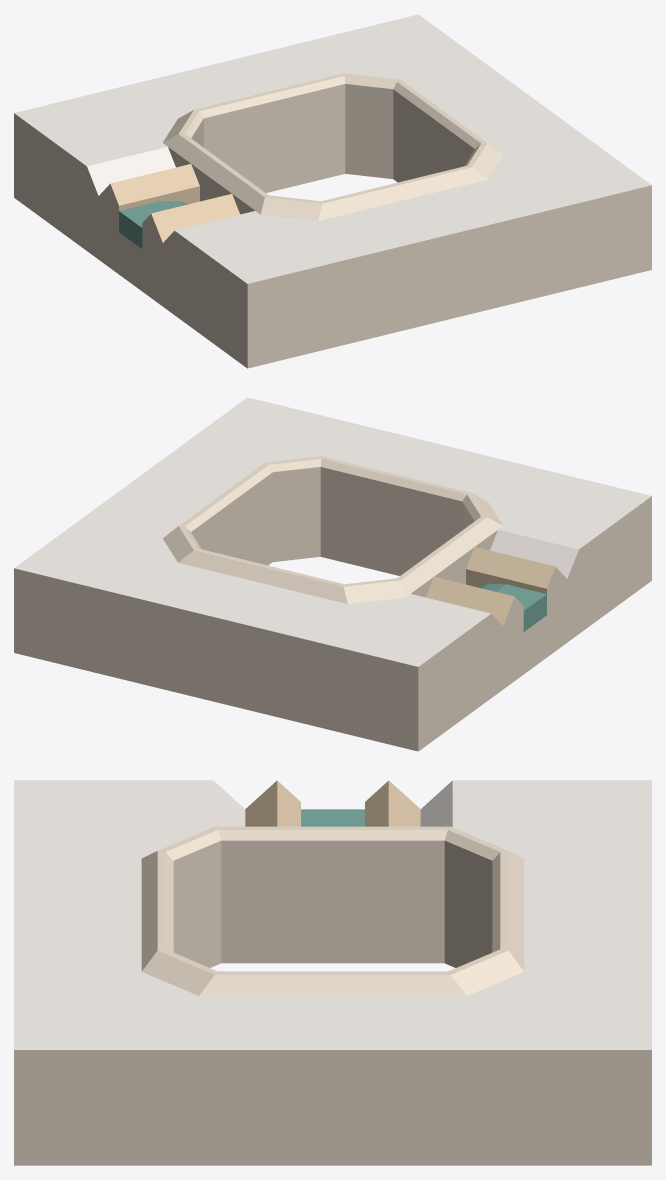
The model's file is Puzzle_Floor_Conduit_Control_Housing_End.glb.
3 renders of one model, top to bottom at view 1: azimuth 30°, elevation 25°; view 2: azimuth 150°, elevation 25°; view 3: azimuth 270°, elevation 25°, orthographic. The views are drawn at different scales.
Visible parts, largest first — view 1: Puzzle_Floor_Conduit_Control_Housing_End; view 2: Puzzle_Floor_Conduit_Control_Housing_End; view 3: Puzzle_Floor_Conduit_Control_Housing_End.
Part boxes in pixels (left/top/right/bottom): Puzzle_Floor_Conduit_Control_Housing_End: left=14, top=14, right=651, bottom=368; Puzzle_Floor_Conduit_Control_Housing_End: left=14, top=397, right=651, bottom=751; Puzzle_Floor_Conduit_Control_Housing_End: left=14, top=780, right=651, bottom=1165.
Size of the model in its own units: 1 by 0.225 by 1.
